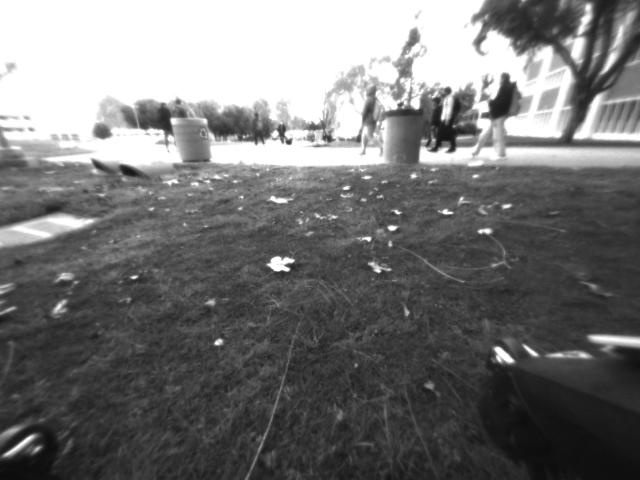trashcan: (381, 111, 419, 172), (171, 116, 216, 166)
